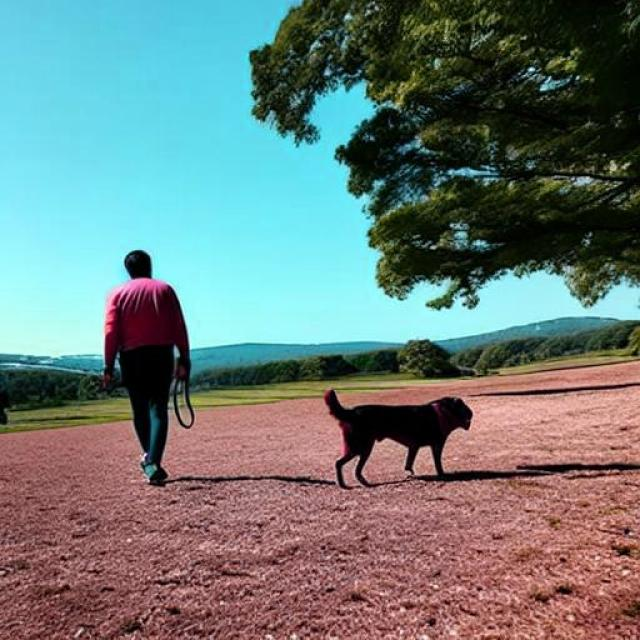Unleashed_Dog: (121, 354, 473, 488)
